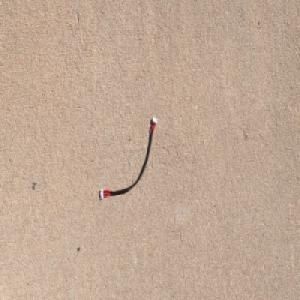Wire: (99, 116, 158, 200)
